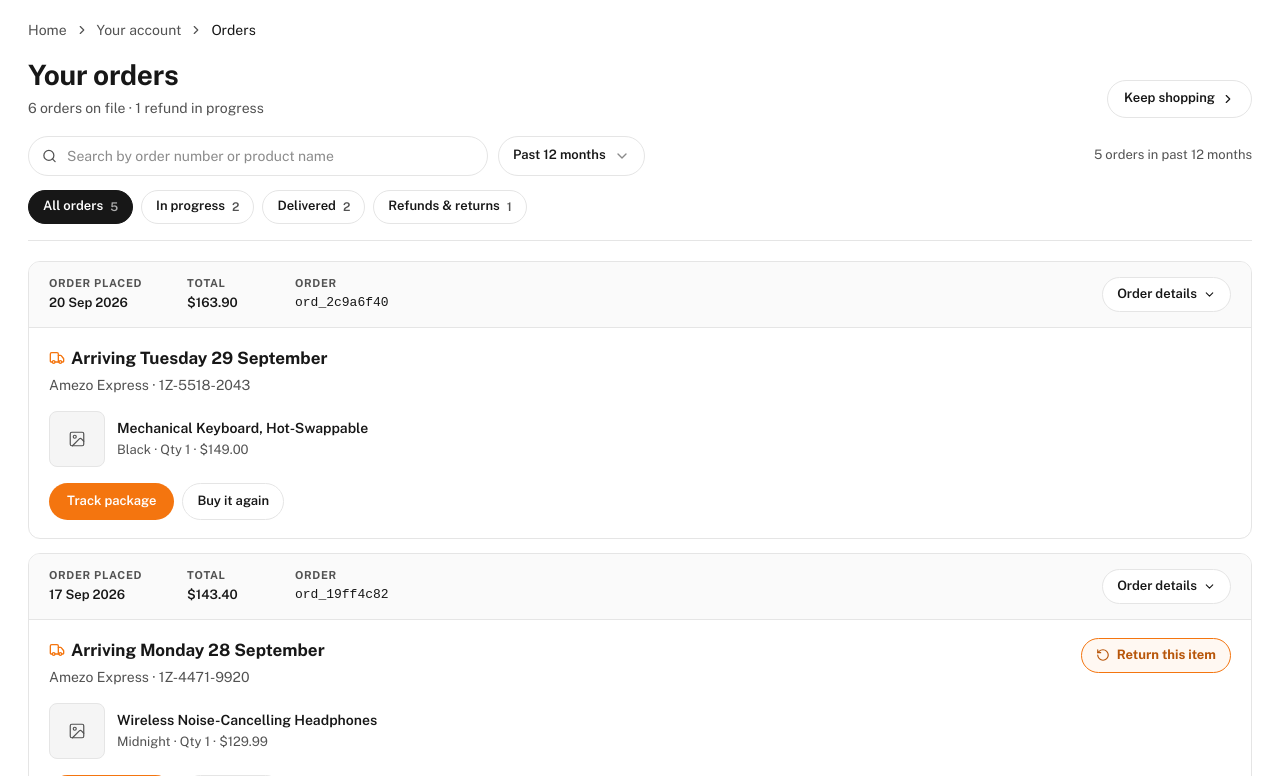
MyOrders › narrows the counts and the list to the chosen date window
Expected: the button "All orders 5" is shown, [28,190,133,224]
Expected: the text "ord_66de1a09" is not shown
Click the dropdown named "Filter by date" at (571, 156), box [498,136,645,176]
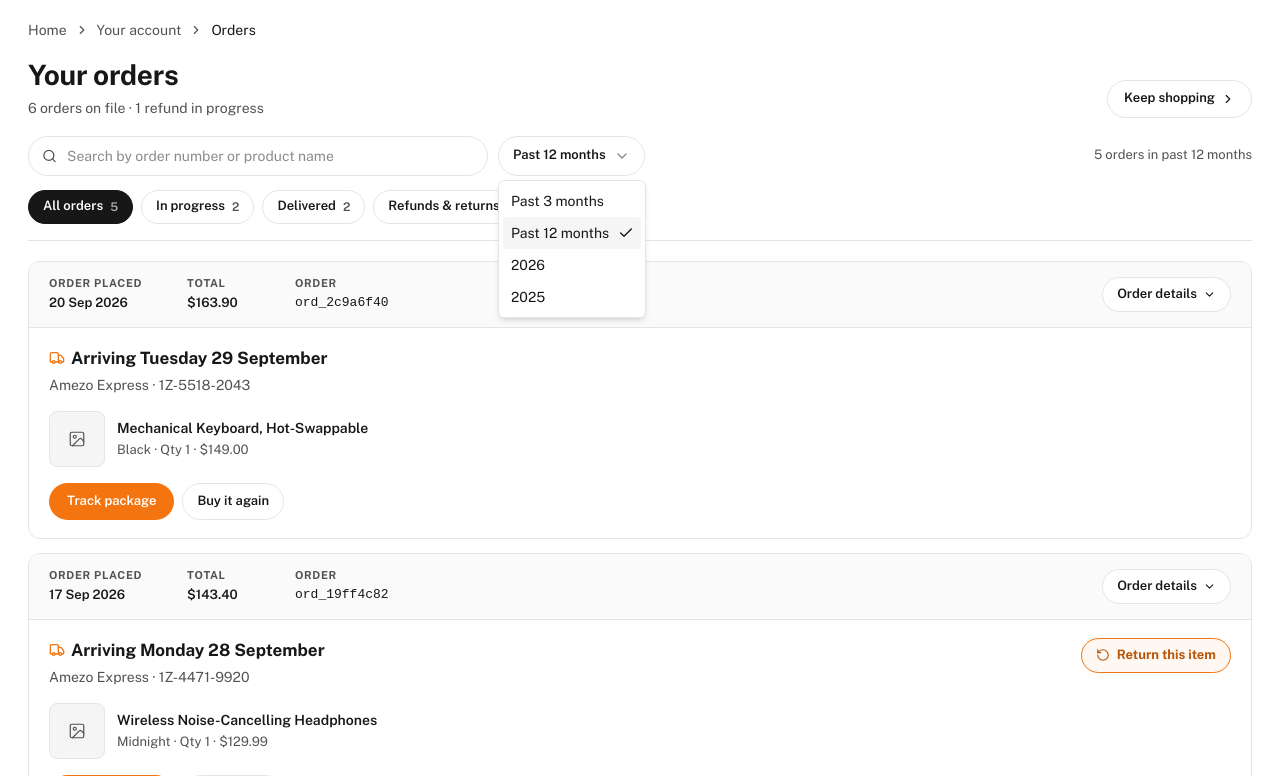
Click the option "2025" at (528, 297), box [511,289,545,305]
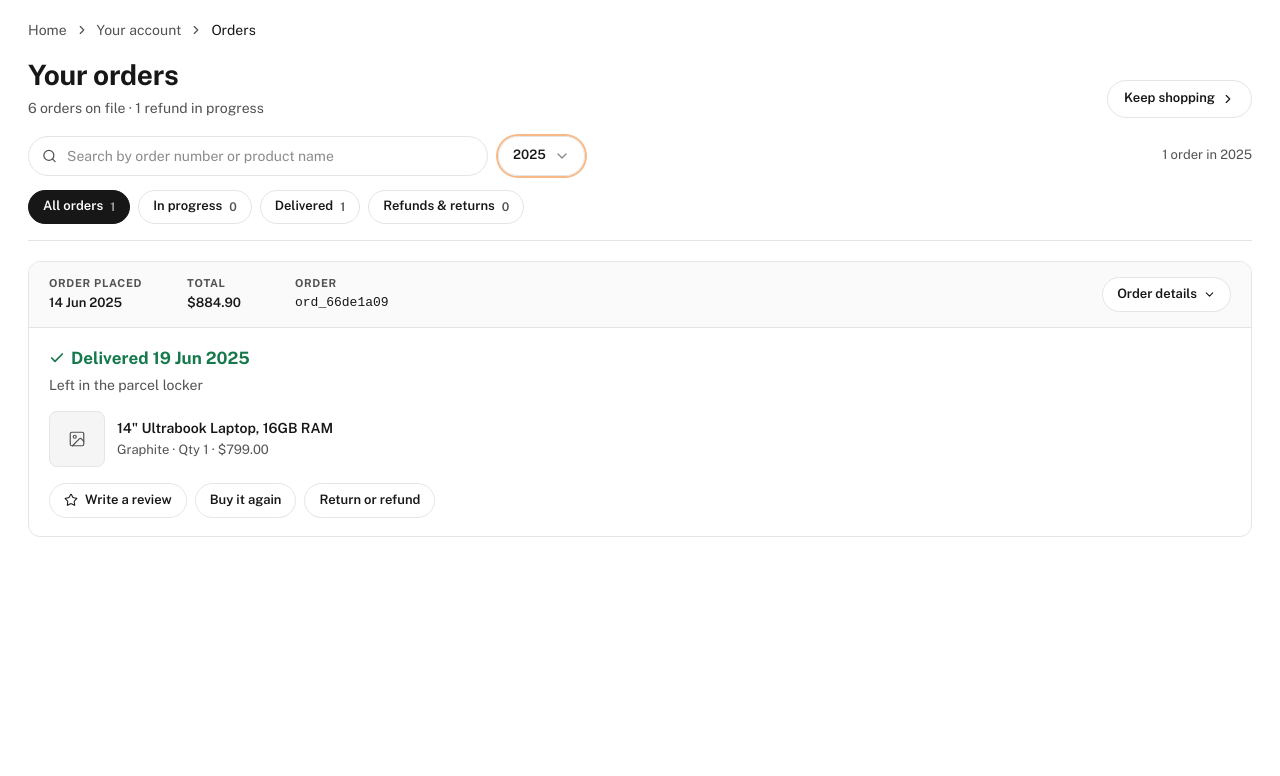
Now the text "ord_66de1a09" is shown, box [295,295,389,310]
Now the text "ord_19ff4c82" is gone
Now the button "All orders 1" is shown, box [28,190,130,224]
